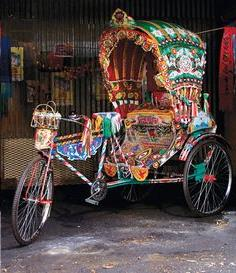Rickshaw: (14, 12, 228, 218)
